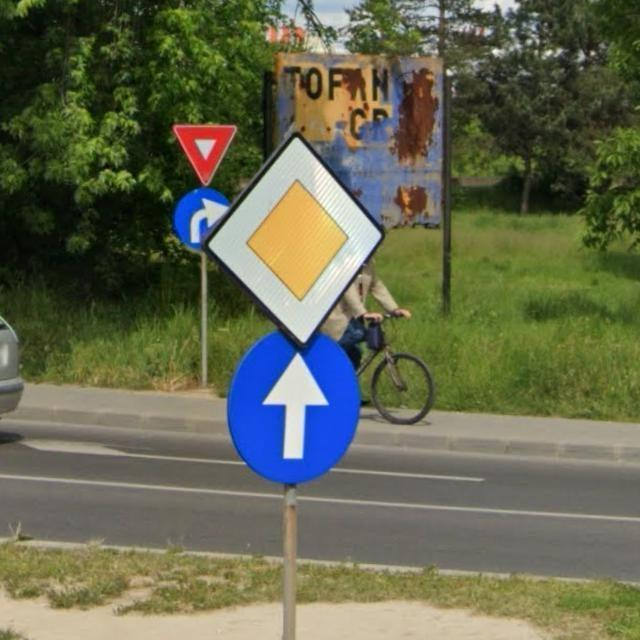prio_give_way: (166, 122, 238, 190)
